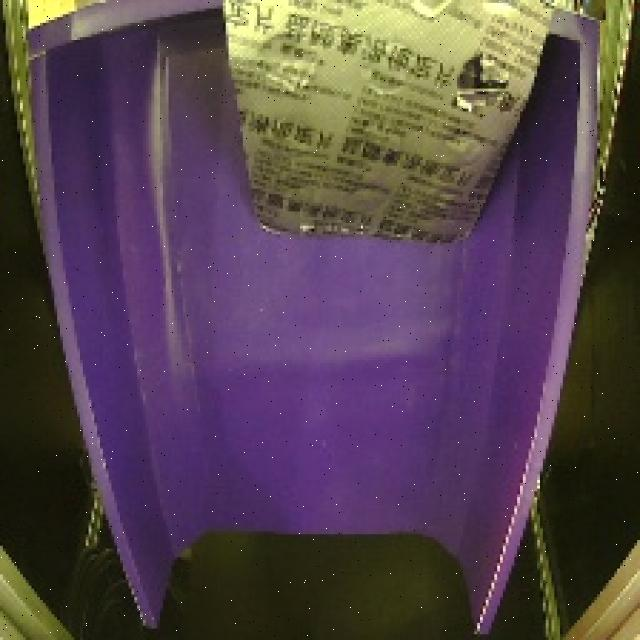med_plate: (203, 0, 570, 264)
